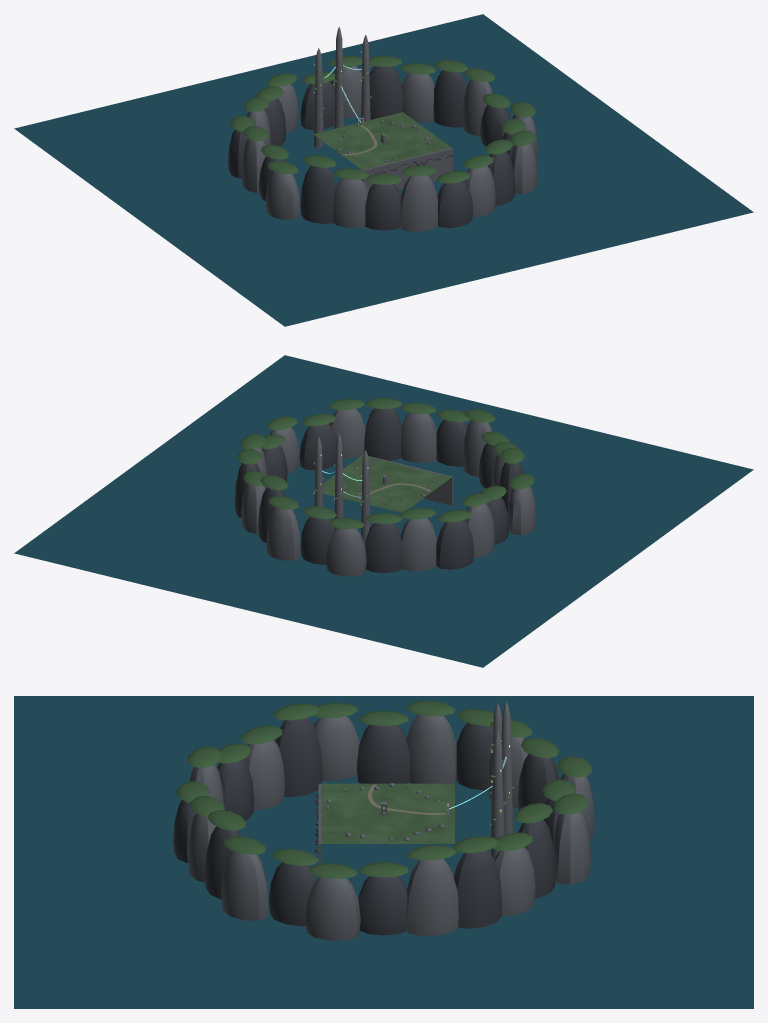
File: spire.glb
3 renders of one model, top to bottom at view 1: azimuth 30°, elevation 25°; view 2: azimuth 150°, elevation 25°; view 3: azimuth 270°, elevation 25°, orthographic. The views are drawn at different scales.
Parts seen in each view (by area): view 1: cl_sea, cl_ground, cl_spires; view 2: cl_sea, cl_ground, cl_spires; view 3: cl_sea, cl_ground, cl_spires.
Boxes of the visible parts, x1=… form: cl_sea: x1=14, y1=14, x2=753, y2=326; cl_ground: x1=313, y1=112, x2=453, y2=192; cl_spires: x1=312, y1=26, x2=371, y2=147; cl_sea: x1=14, y1=355, x2=753, y2=667; cl_ground: x1=313, y1=454, x2=452, y2=512; cl_spires: x1=312, y1=433, x2=371, y2=545; cl_sea: x1=14, y1=696, x2=753, y2=1008; cl_ground: x1=315, y1=783, x2=454, y2=877; cl_spires: x1=446, y1=701, x2=514, y2=859.
Bounding box in the file's own units: 520 × 158 × 520.
